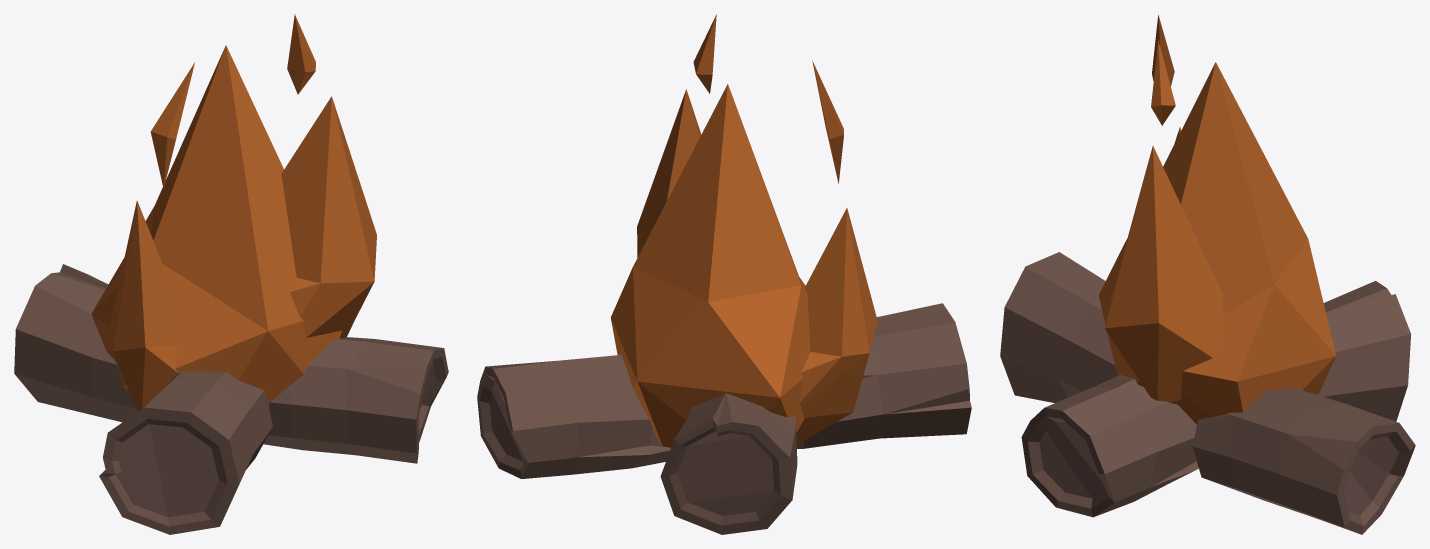
Rendered from bonfire_fire.glb.
3 views of the same model, side by side, from view 1: azimuth 30°, elevation 25°; view 2: azimuth 150°, elevation 25°; view 3: azimuth 270°, elevation 25° (orthographic). The views are drawn at different scales.
Visible parts, largest first — view 1: Bonfire_Fire; view 2: Bonfire_Fire; view 3: Bonfire_Fire.
Part boxes in pixels (x1=…): Bonfire_Fire: x1=14, y1=14, x2=448, y2=534; Bonfire_Fire: x1=477, y1=14, x2=971, y2=534; Bonfire_Fire: x1=1000, y1=15, x2=1415, y2=534.
Size of the model in its own units: 2.18 by 2.31 by 1.98.
